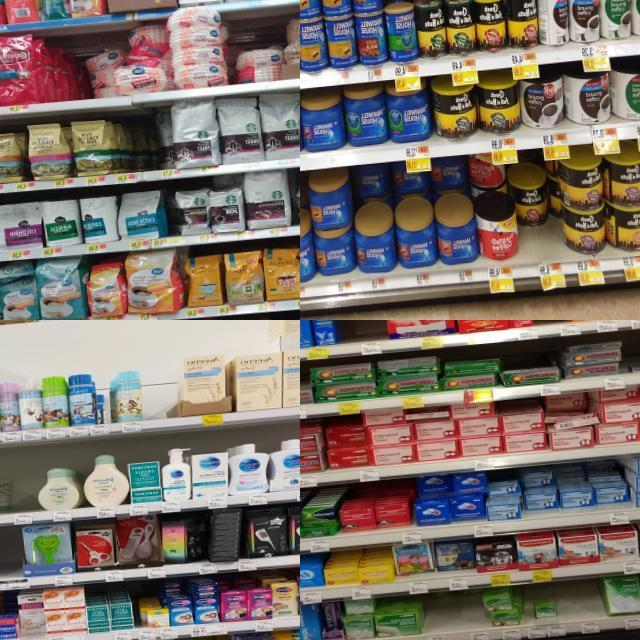empty: (562, 577, 602, 634), (138, 368, 170, 432), (7, 461, 38, 525), (340, 320, 385, 354), (0, 528, 24, 591), (454, 592, 485, 640), (422, 595, 455, 640), (538, 320, 568, 336)
